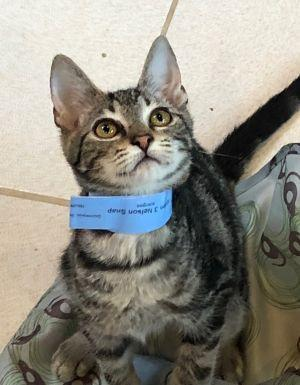bengal: (37, 33, 216, 204)
